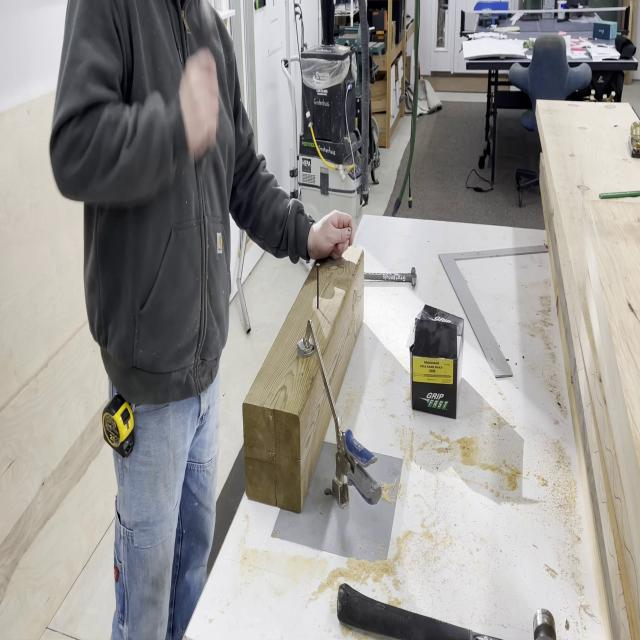hammer: (337, 580, 556, 640), (364, 265, 417, 288)
